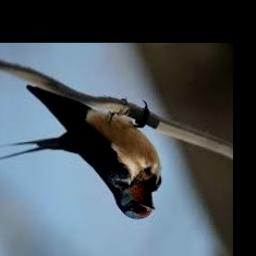Swallow: (0, 84, 161, 220)
